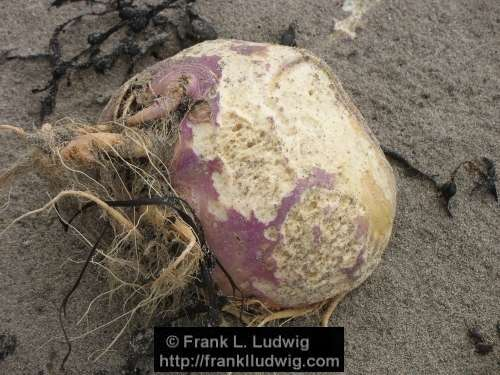turnip: (0, 37, 398, 373)
